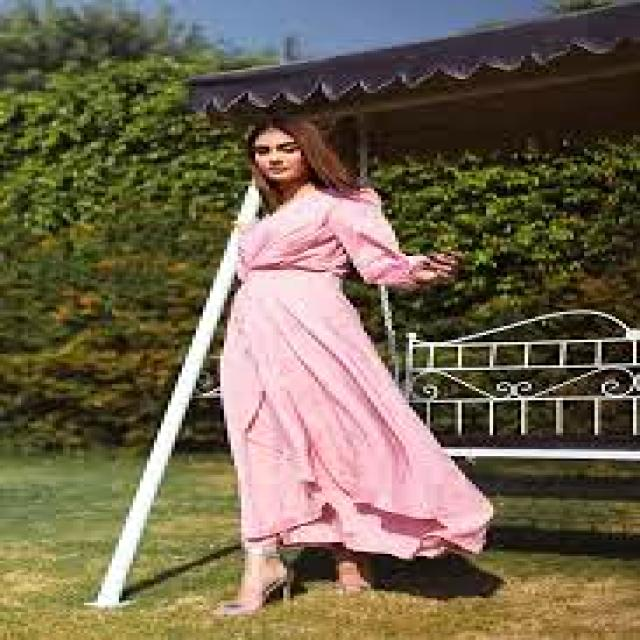dress: (221, 189, 493, 558)
